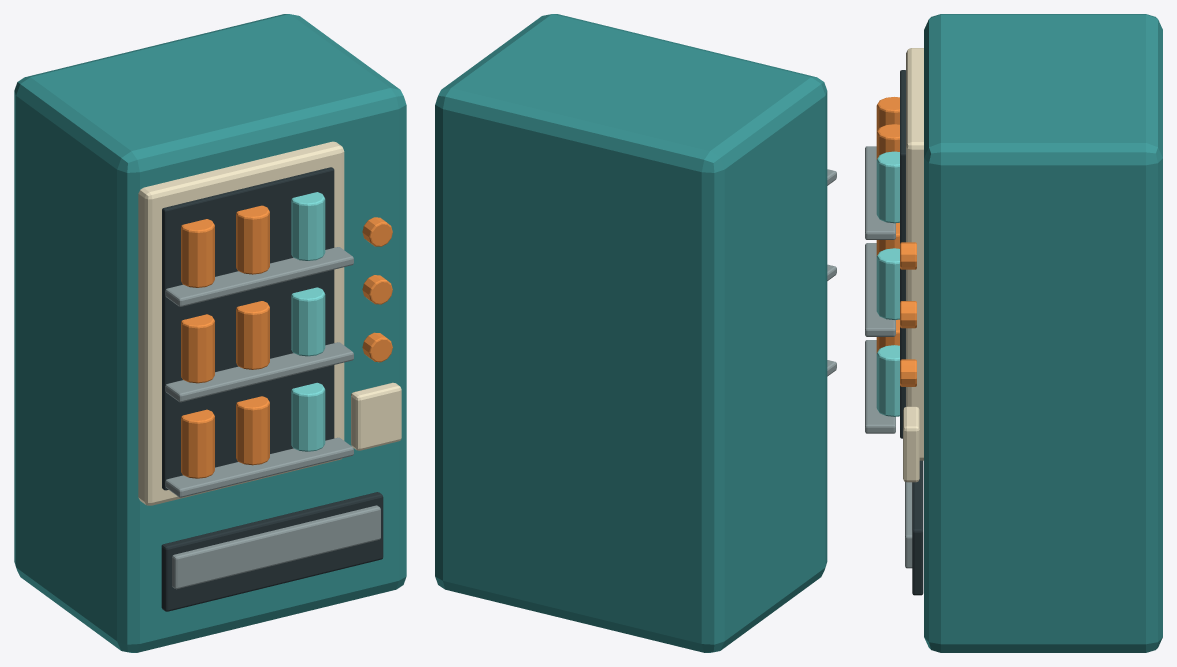
The model's file is S059_vending_machine.glb.
3 renders of one model, left to right at view 1: azimuth 30°, elevation 25°; view 2: azimuth 150°, elevation 25°; view 3: azimuth 270°, elevation 25°, orthographic.
Visible parts, largest first — view 1: vending_body, dark_display, display_surround, pickup_hole, pickup_flap, product_shelf.001, product_shelf.002, product_shelf, payment_panel, blank_product_can.002, blank_product_can.005, blank_product_can.008 (+9 smaller); view 2: vending_body; view 3: vending_body, display_surround, blank_product_can.005, blank_product_can.008, blank_product_can.002, dark_display, product_shelf, product_shelf.001, product_shelf.002, pickup_hole, payment_panel, pickup_flap (+5 smaller).
Part boxes in pixels (left/top/right/bottom): vending_body: left=14, top=14, right=406, bottom=652; dark_display: left=162, top=167, right=334, bottom=490; display_surround: left=138, top=141, right=344, bottom=505; pickup_hole: left=161, top=492, right=383, bottom=611; pickup_flap: left=172, top=505, right=380, bottom=589; product_shelf.001: left=165, top=342, right=353, bottom=402; product_shelf.002: left=165, top=247, right=353, bottom=306; product_shelf: left=165, top=437, right=353, bottom=497; payment_panel: left=351, top=382, right=401, bottom=450; blank_product_can.002: left=291, top=382, right=325, bottom=451; blank_product_can.005: left=291, top=287, right=325, bottom=356; blank_product_can.008: left=291, top=192, right=325, bottom=260; vending_body: left=435, top=14, right=827, bottom=652; vending_body: left=924, top=14, right=1162, bottom=652; display_surround: left=906, top=48, right=923, bottom=460; blank_product_can.005: left=876, top=248, right=899, bottom=319; blank_product_can.008: left=876, top=151, right=899, bottom=223; blank_product_can.002: left=876, top=345, right=899, bottom=416; dark_display: left=900, top=70, right=905, bottom=438; product_shelf: left=865, top=340, right=895, bottom=433; product_shelf.001: left=865, top=243, right=895, bottom=336; product_shelf.002: left=865, top=146, right=895, bottom=239; pickup_hole: left=912, top=460, right=923, bottom=595; payment_panel: left=903, top=406, right=919, bottom=482; pickup_flap: left=905, top=482, right=912, bottom=568.
Bounding box in the file's own units: 1.2 × 2 × 1.06.
